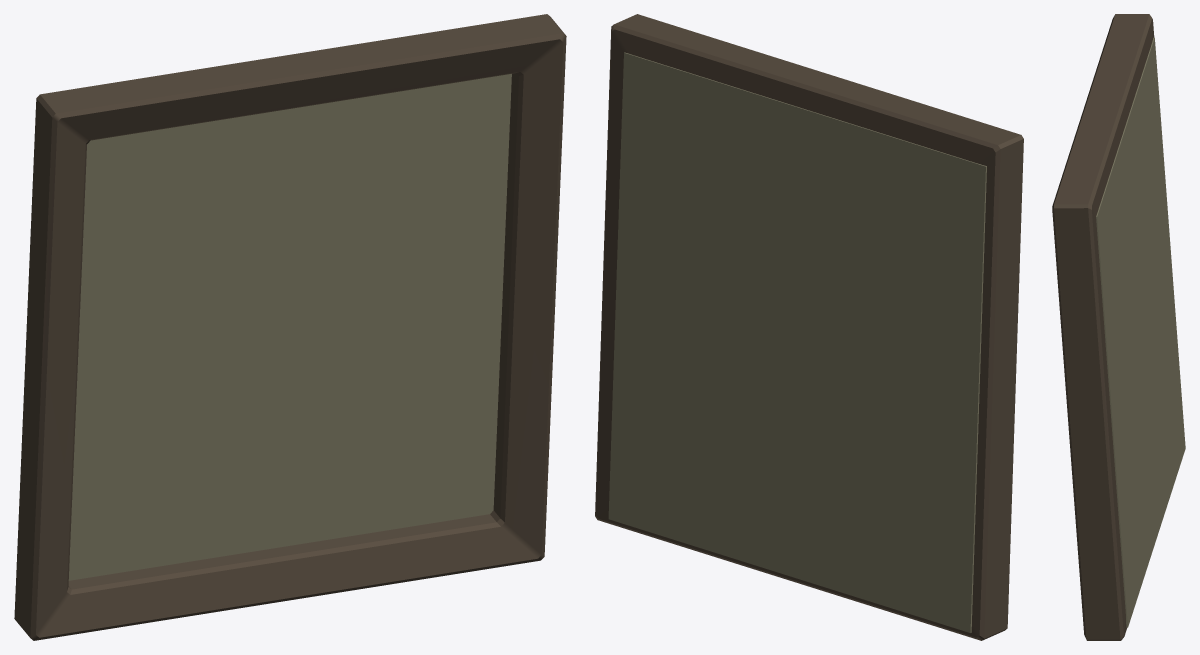
The model's file is TEMP_Painting_Tan.fbx.
3 renders of one model, left to right at view 1: azimuth 30°, elevation 25°; view 2: azimuth 150°, elevation 25°; view 3: azimuth 270°, elevation 25°, orthographic. The views are drawn at different scales.
Parts seen in each view (by area): view 1: PaintingTan; view 2: PaintingTan; view 3: PaintingTan.
Boxes of the visible parts, x1,y1,x2,y2 form: PaintingTan: (14,14,566,640); PaintingTan: (595,14,1023,640); PaintingTan: (1052,14,1185,640).
Size of the model in its own units: 10.95 by 11.94 by 3.25.
